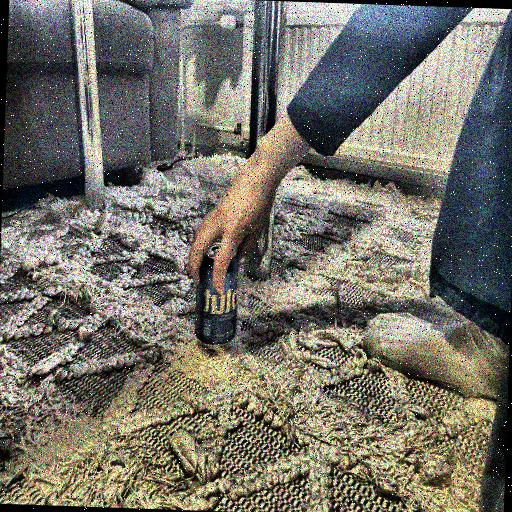koti: (192, 243, 249, 354)
